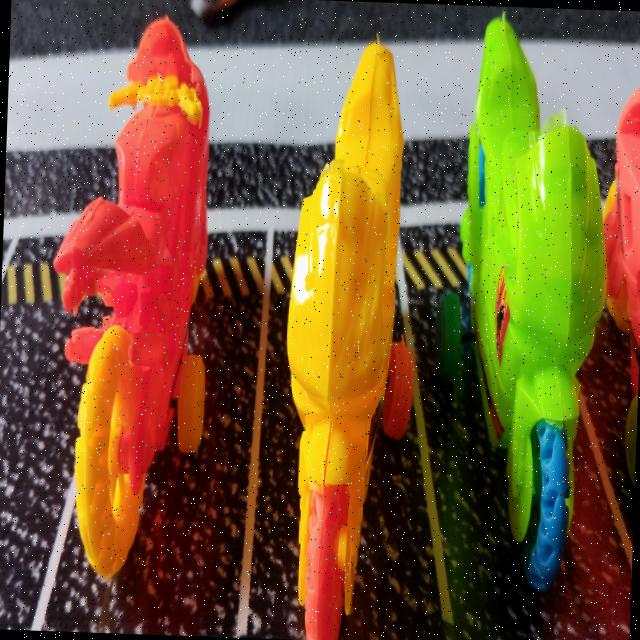occupied: (46, 17, 261, 635), (427, 17, 631, 640), (246, 42, 445, 640)
others: (9, 0, 640, 58)
